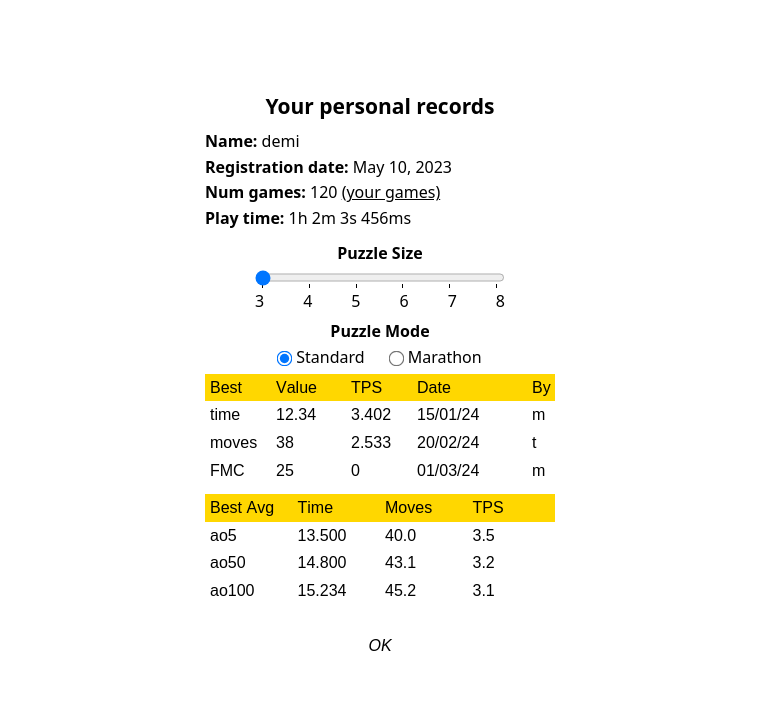
Test: UserAccount › opens the games table on "(your games)"
Check: the element with class "user-account" is shown, box [185, 66, 575, 687]
Click the text with class "last-games".
click(391, 192)  # box [342, 181, 440, 203]
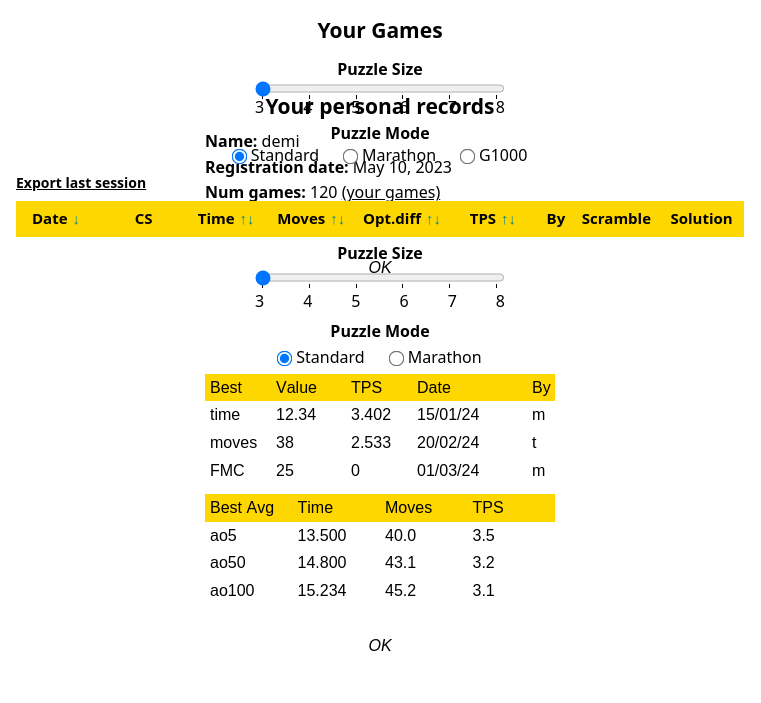
Check: the element with class "games-table" is shown, box [16, 16, 744, 284]
